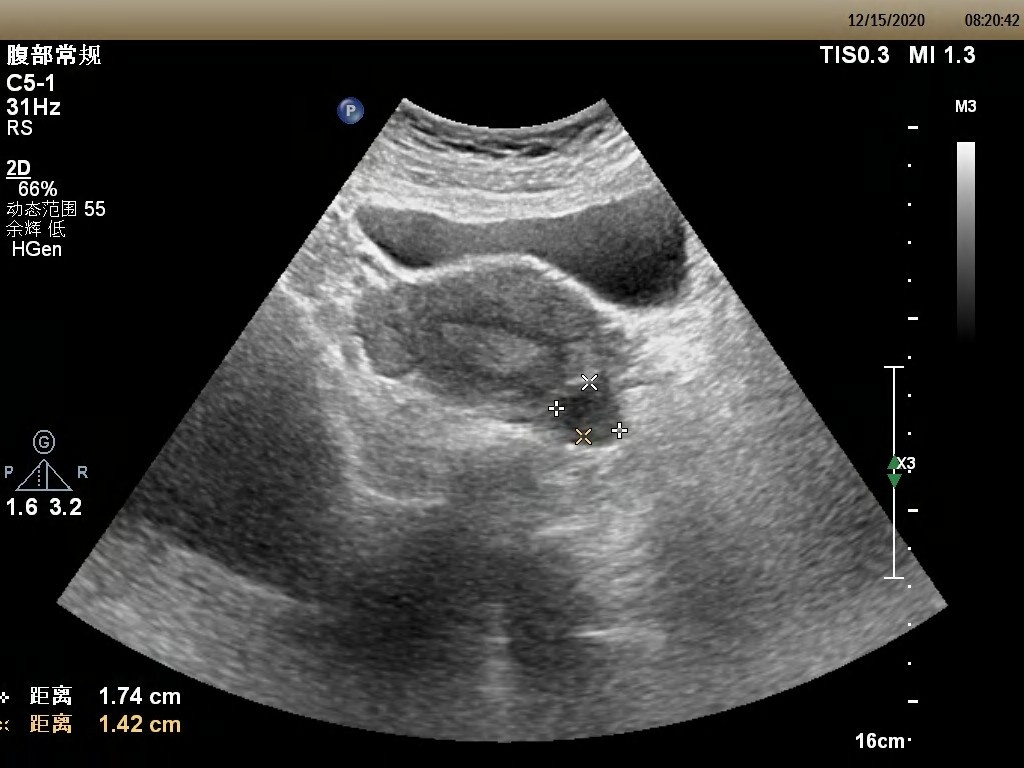肌瘤: (555, 380, 624, 444)
